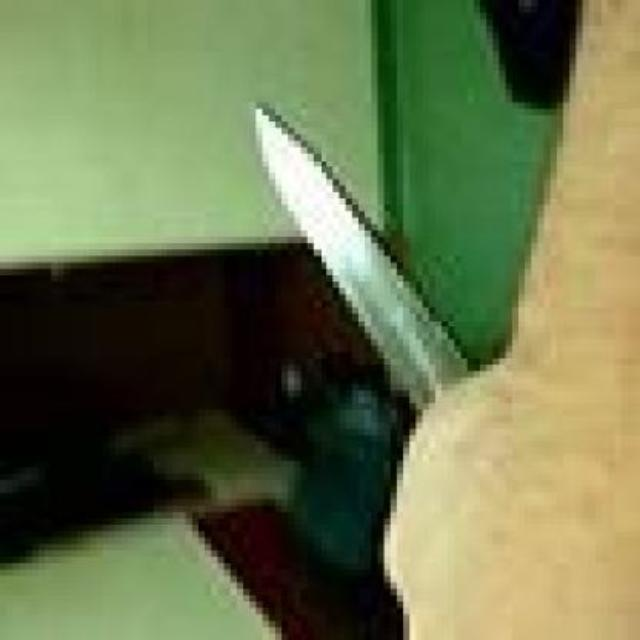Knife: (260, 110, 470, 414)
